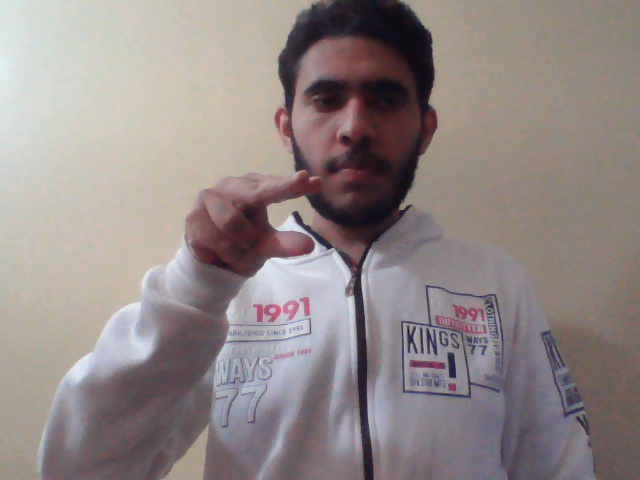no: (176, 165, 329, 283)
